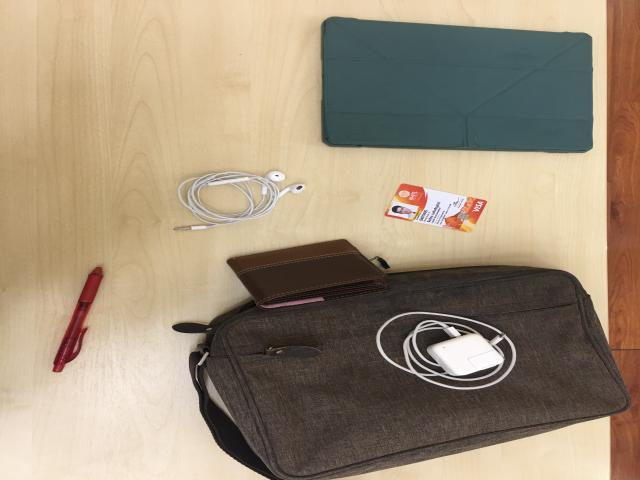Pen: (50, 267, 102, 375)
Wallet: (226, 240, 386, 310)
wire: (377, 313, 519, 392), (178, 170, 305, 230)
